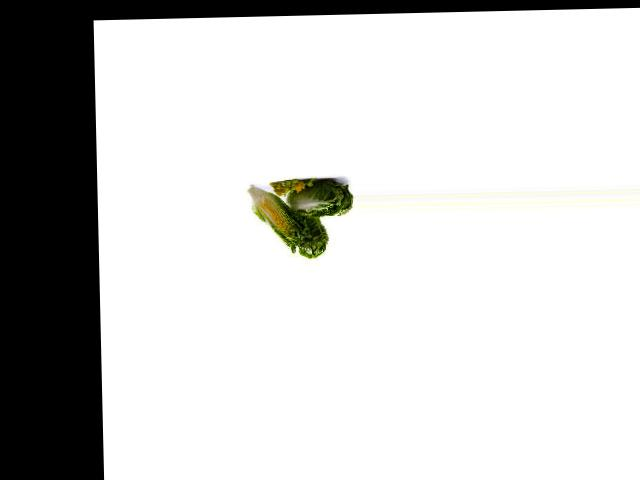lettuce: (278, 175, 351, 220)
